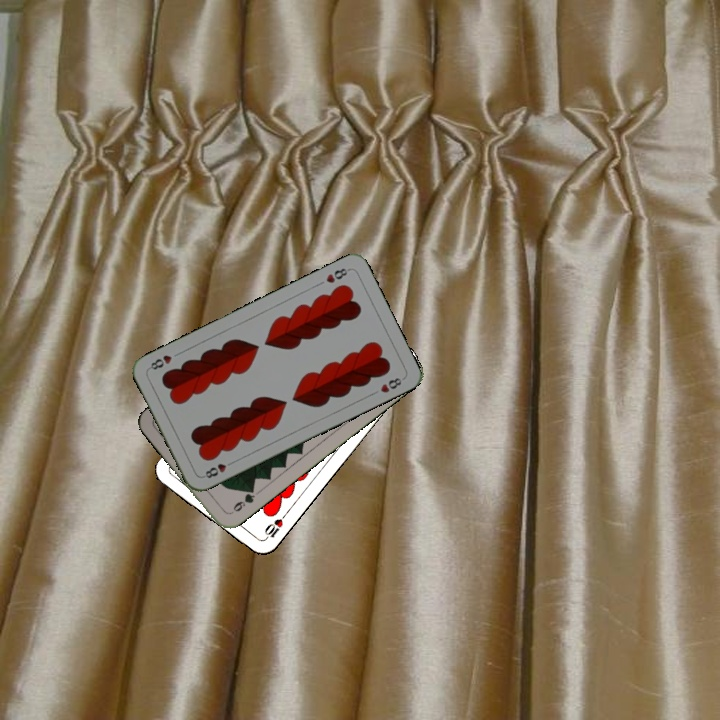G9: (226, 484, 258, 517)
H10: (259, 509, 290, 543)
H8: (199, 457, 237, 481), (322, 264, 352, 286)
